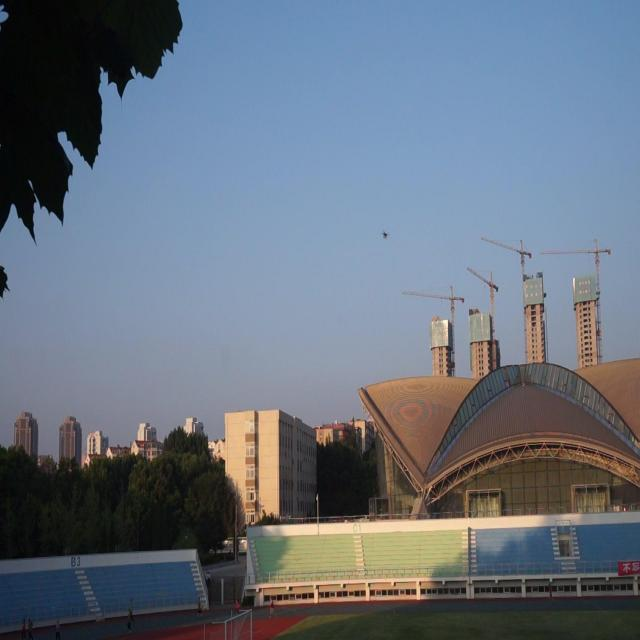UAV: (382, 229, 389, 240)
